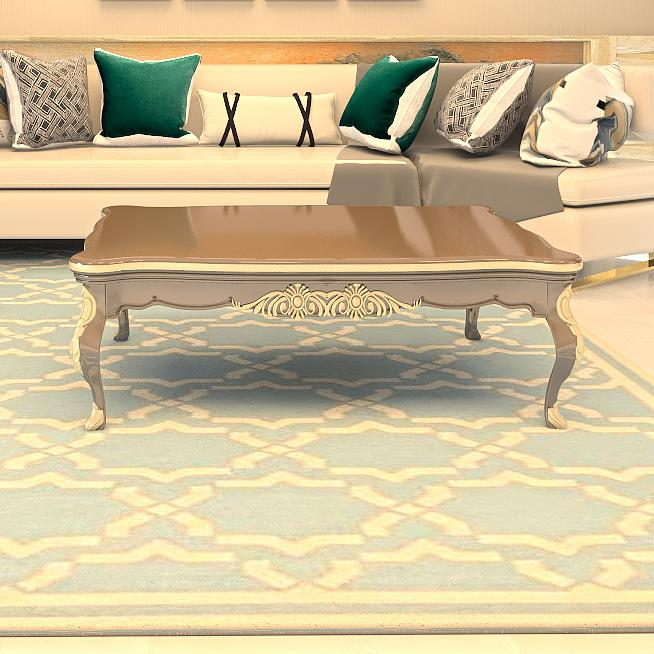table: (66, 199, 583, 439)
